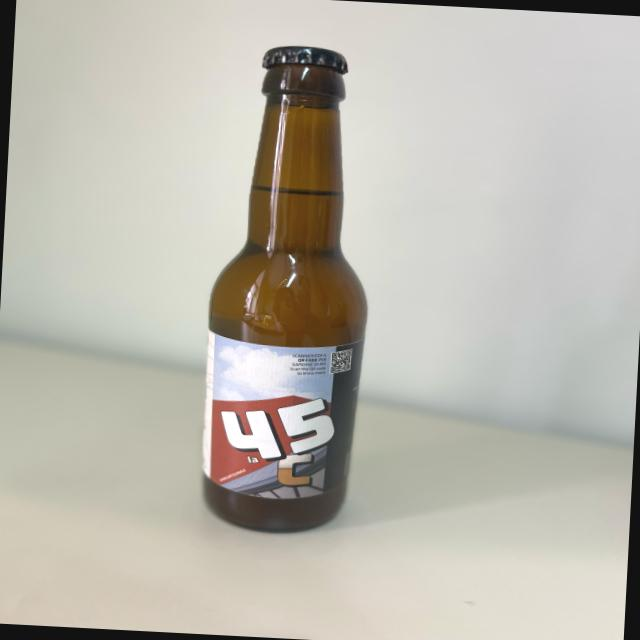Bottle: (196, 66, 382, 536)
Cap: (254, 42, 353, 76)
Label: (199, 333, 361, 502)
